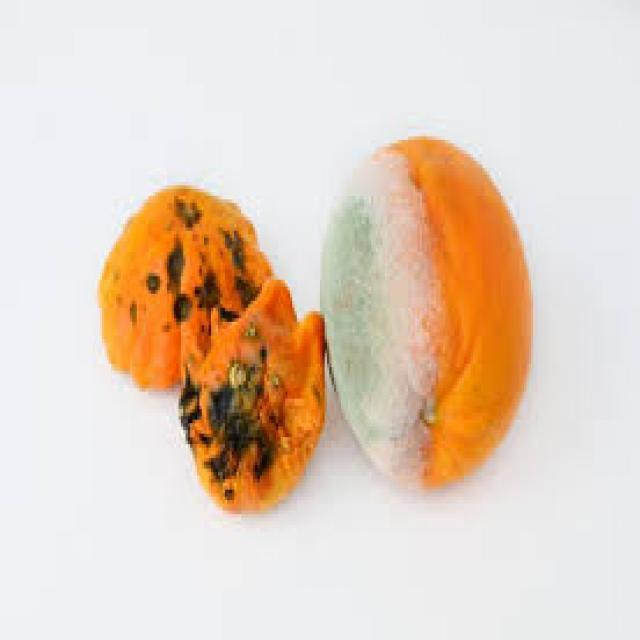organic waste: (320, 133, 531, 490), (95, 182, 267, 385), (176, 273, 322, 507)
